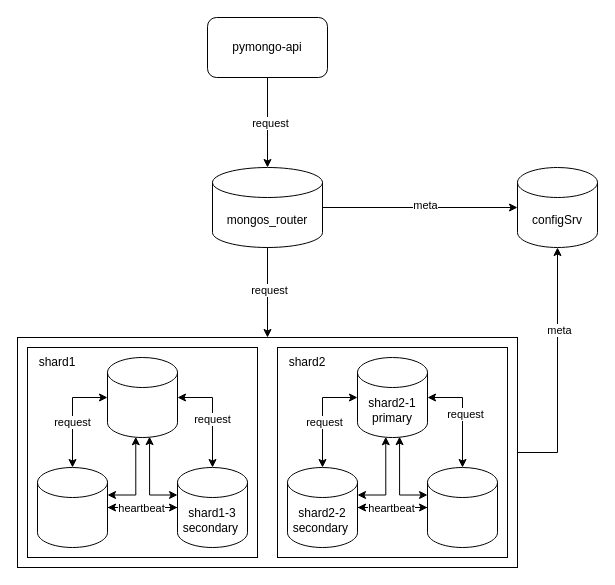
The diagram is 615 pixels wide and 585 high, and some of its shapes have lost their labels. The centre of each missing label's shape, as x and y in pixels:
"shard1-1 primary" belongs at (x=142, y=397).
"shard1-2 secondary" belongs at (x=72, y=507).
"shard2-3 secondary" belongs at (x=462, y=507).
